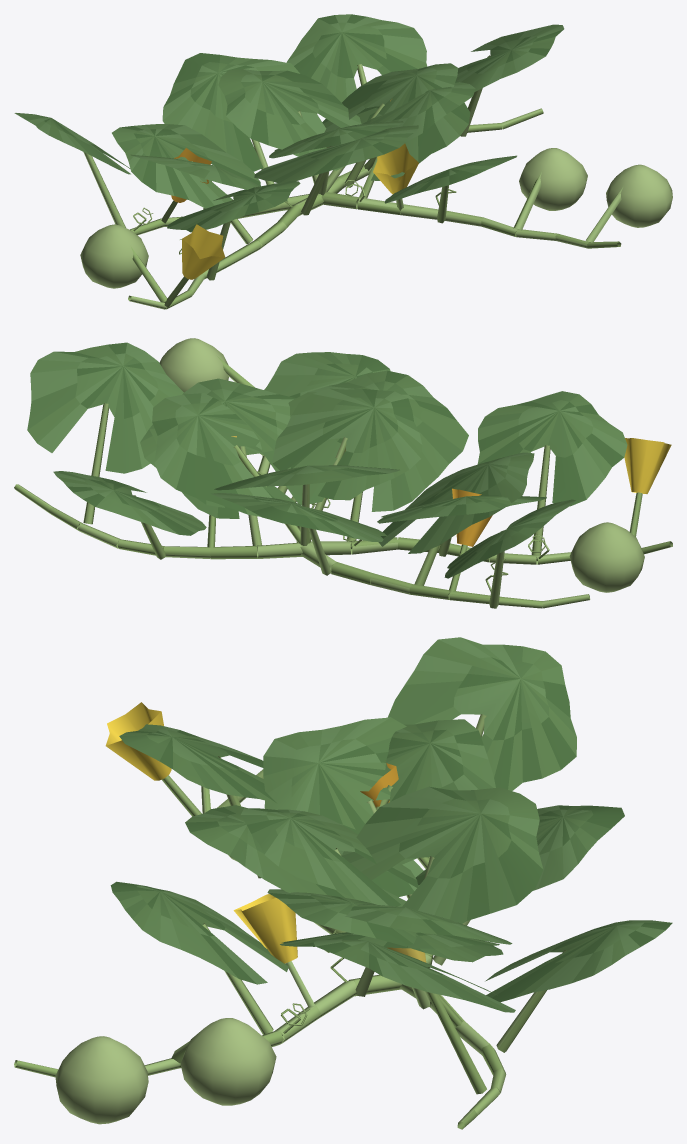
File: melon_charentais_fruits.glb
3 renders of one model, top to bottom at view 1: azimuth 30°, elevation 25°; view 2: azimuth 150°, elevation 25°; view 3: azimuth 270°, elevation 25°, orthographic. The views are drawn at different scales.
Visible parts, largest first — view 1: Melon_Feuilles, Melon_Tiges, Melon_Fruits, Melon_Fleurs; view 2: Melon_Feuilles, Melon_Tiges, Melon_Fruits, Melon_Fleurs; view 3: Melon_Feuilles, Melon_Fruits, Melon_Tiges, Melon_Fleurs.
Boxes of the visible parts, left/top/right/bottom form: Melon_Feuilles: left=14, top=14, right=564, bottom=232; Melon_Tiges: left=83, top=55, right=623, bottom=309; Melon_Fruits: left=80, top=148, right=672, bottom=288; Melon_Fleurs: left=171, top=99, right=418, bottom=279; Melon_Feuilles: left=27, top=342, right=627, bottom=578; Melon_Tiges: left=14, top=356, right=672, bottom=608; Melon_Fruits: left=159, top=338, right=644, bottom=592; Melon_Fleurs: left=231, top=436, right=671, bottom=546; Melon_Feuilles: left=110, top=637, right=672, bottom=1012; Melon_Fruits: left=55, top=1018, right=276, bottom=1124; Melon_Tiges: left=14, top=714, right=566, bottom=1129; Melon_Fleurs: left=105, top=702, right=426, bottom=963.
Size of the model in its own units: 1.18 by 0.2784 by 0.9387.
